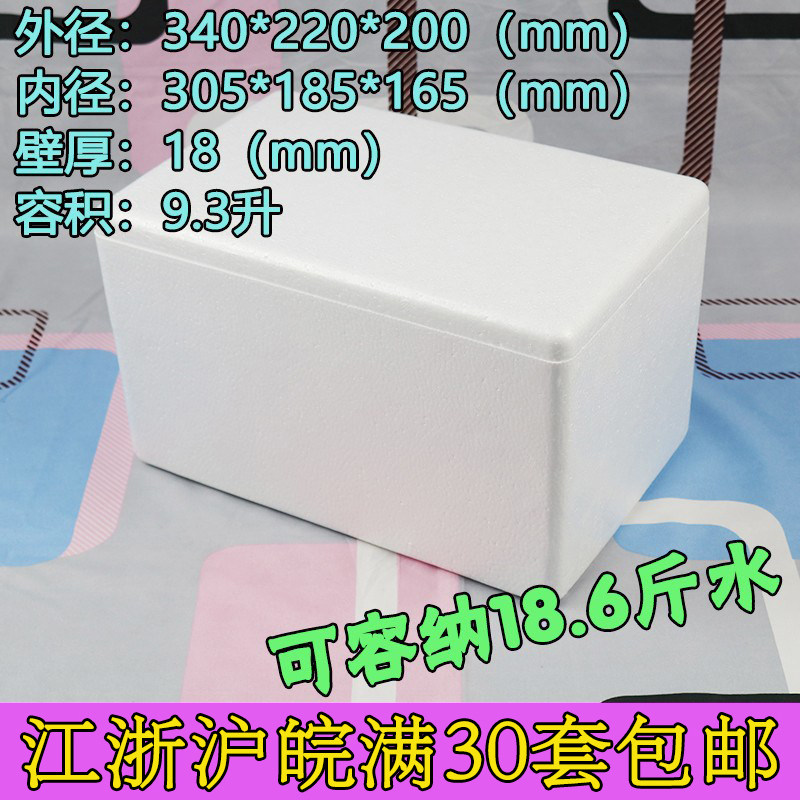泡沫箱: (98, 110, 707, 593)
